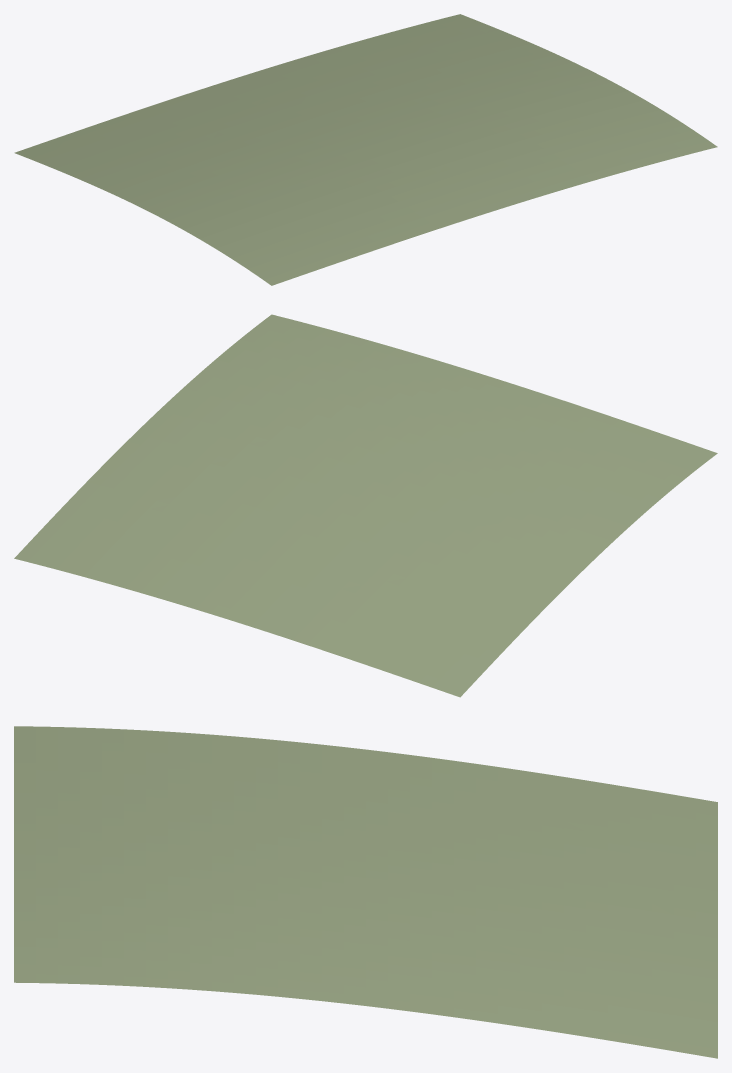
Rendered from valley-10-14.glb.
3 views of the same model, one above another, from view 1: azimuth 30°, elevation 25°; view 2: azimuth 150°, elevation 25°; view 3: azimuth 270°, elevation 25° (orthographic). The views are drawn at different scales.
Parts seen in each view (by area): view 1: valley-10-14; view 2: valley-10-14; view 3: valley-10-14.
Boxes of the visible parts, x1=… form: valley-10-14: x1=14, y1=14, x2=717, y2=285; valley-10-14: x1=14, y1=314, x2=717, y2=697; valley-10-14: x1=14, y1=726, x2=717, y2=1058.
Size of the model in its own units: 256 by 46.91 by 256.
